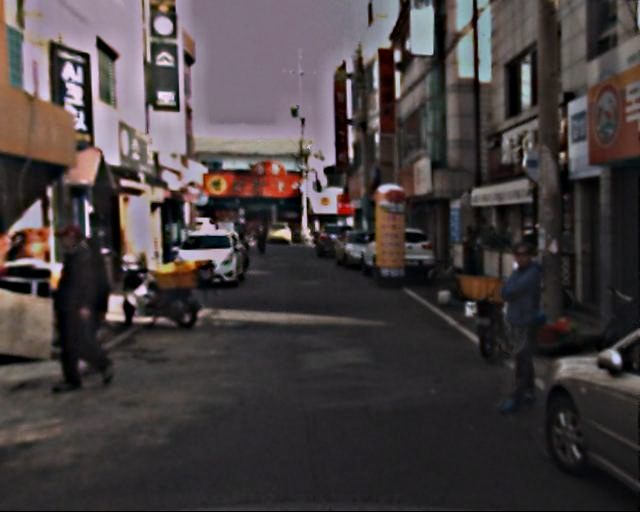person: (54, 225, 139, 389), (485, 241, 559, 417), (256, 216, 272, 256)
